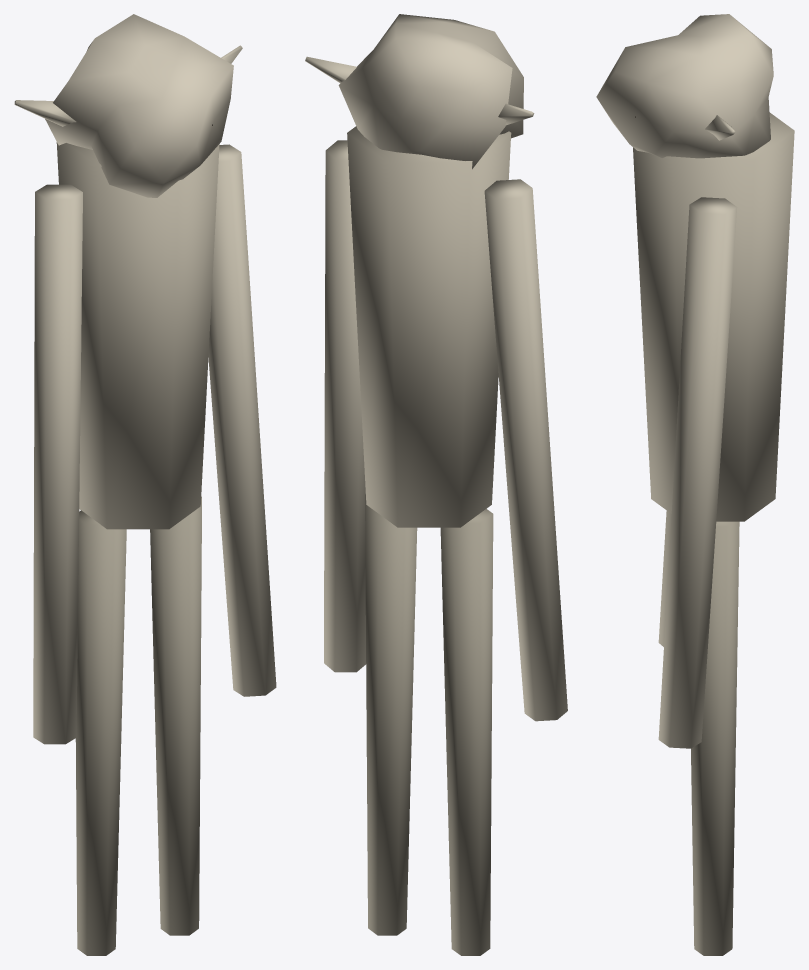
Rendered from skeleton.glb.
3 renders of one model, left to right at view 1: azimuth 30°, elevation 25°; view 2: azimuth 150°, elevation 25°; view 3: azimuth 270°, elevation 25°, orthographic.
Visible parts, largest first — view 1: skeleton; view 2: skeleton; view 3: skeleton.
Part boxes in pixels (left/top/right/bottom): skeleton: left=14, top=14, right=276, bottom=955; skeleton: left=305, top=14, right=567, bottom=955; skeleton: left=596, top=14, right=794, bottom=955.
Size of the model in its own units: 0.4017 by 1.5 by 0.2985.
1 material, 1 textured.
